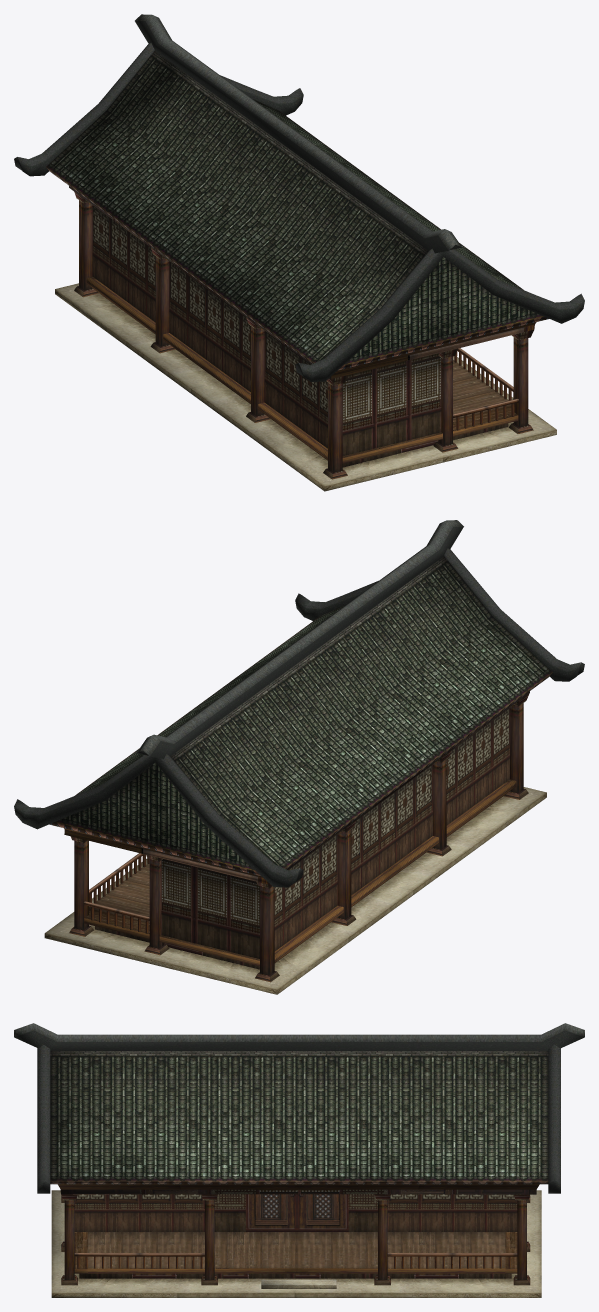
Rendered from c1-033-guesthouse-02.fbx.
3 views of the same model, one above another, from view 1: azimuth 30°, elevation 25°; view 2: azimuth 150°, elevation 25°; view 3: azimuth 270°, elevation 25° (orthographic). The views are drawn at different scales.
Parts seen in each view (by area): view 1: c1-033-guesthouse-01, c1-033-guesthouse-02; view 2: c1-033-guesthouse-01, c1-033-guesthouse-02; view 3: c1-033-guesthouse-01, c1-033-guesthouse-02.
Part boxes in pixels (x1,y1,x2,y2): c1-033-guesthouse-01: (14, 14, 584, 382); c1-033-guesthouse-02: (55, 186, 556, 491); c1-033-guesthouse-01: (14, 520, 584, 887); c1-033-guesthouse-02: (44, 691, 546, 994); c1-033-guesthouse-01: (14, 1023, 584, 1288); c1-033-guesthouse-02: (51, 1184, 541, 1297).
Size of the model in its own units: 14.1 by 11.57 by 27.14.
